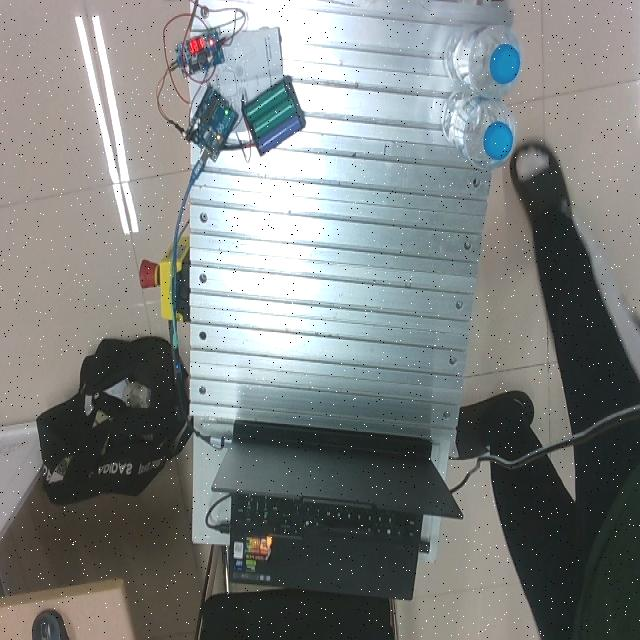lavie: (441, 24, 522, 101), (442, 94, 517, 170)
